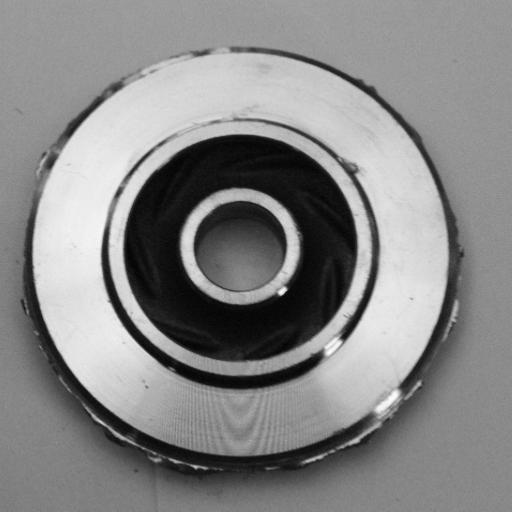casting_with_burr: (20, 38, 465, 481)
crack: (334, 146, 375, 182)
scratch: (155, 100, 265, 149), (308, 318, 370, 385), (260, 269, 309, 310)
